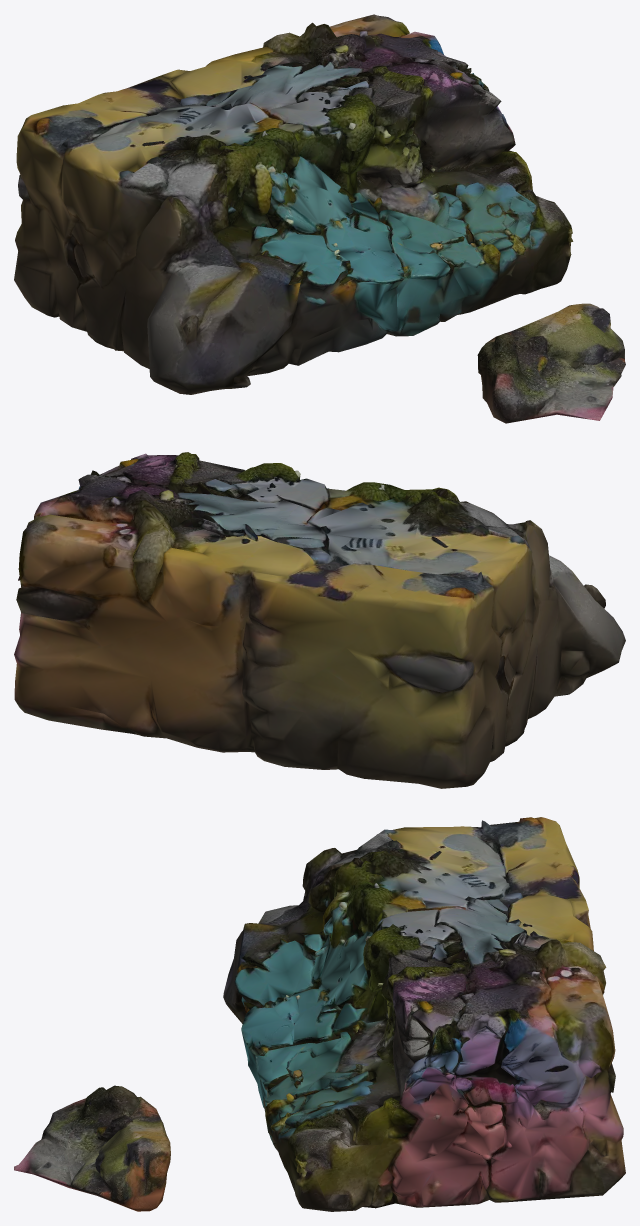
The model's file is painted_rock.glb.
3 renders of one model, top to bottom at view 1: azimuth 30°, elevation 25°; view 2: azimuth 150°, elevation 25°; view 3: azimuth 270°, elevation 25°, orthographic. The views are drawn at different scales.
Visible parts, largest first — view 1: tripo_node_d3f8a8d8; view 2: tripo_node_d3f8a8d8; view 3: tripo_node_d3f8a8d8.
Part boxes in pixels (box(x1,y1,x2,y2)): tripo_node_d3f8a8d8: box(14, 14, 625, 423); tripo_node_d3f8a8d8: box(14, 452, 625, 788); tripo_node_d3f8a8d8: box(14, 817, 625, 1211).
Bounding box in the file's own units: 0.8413 × 0.3988 × 0.9768.
Materials: 1 (1 with a texture image).
